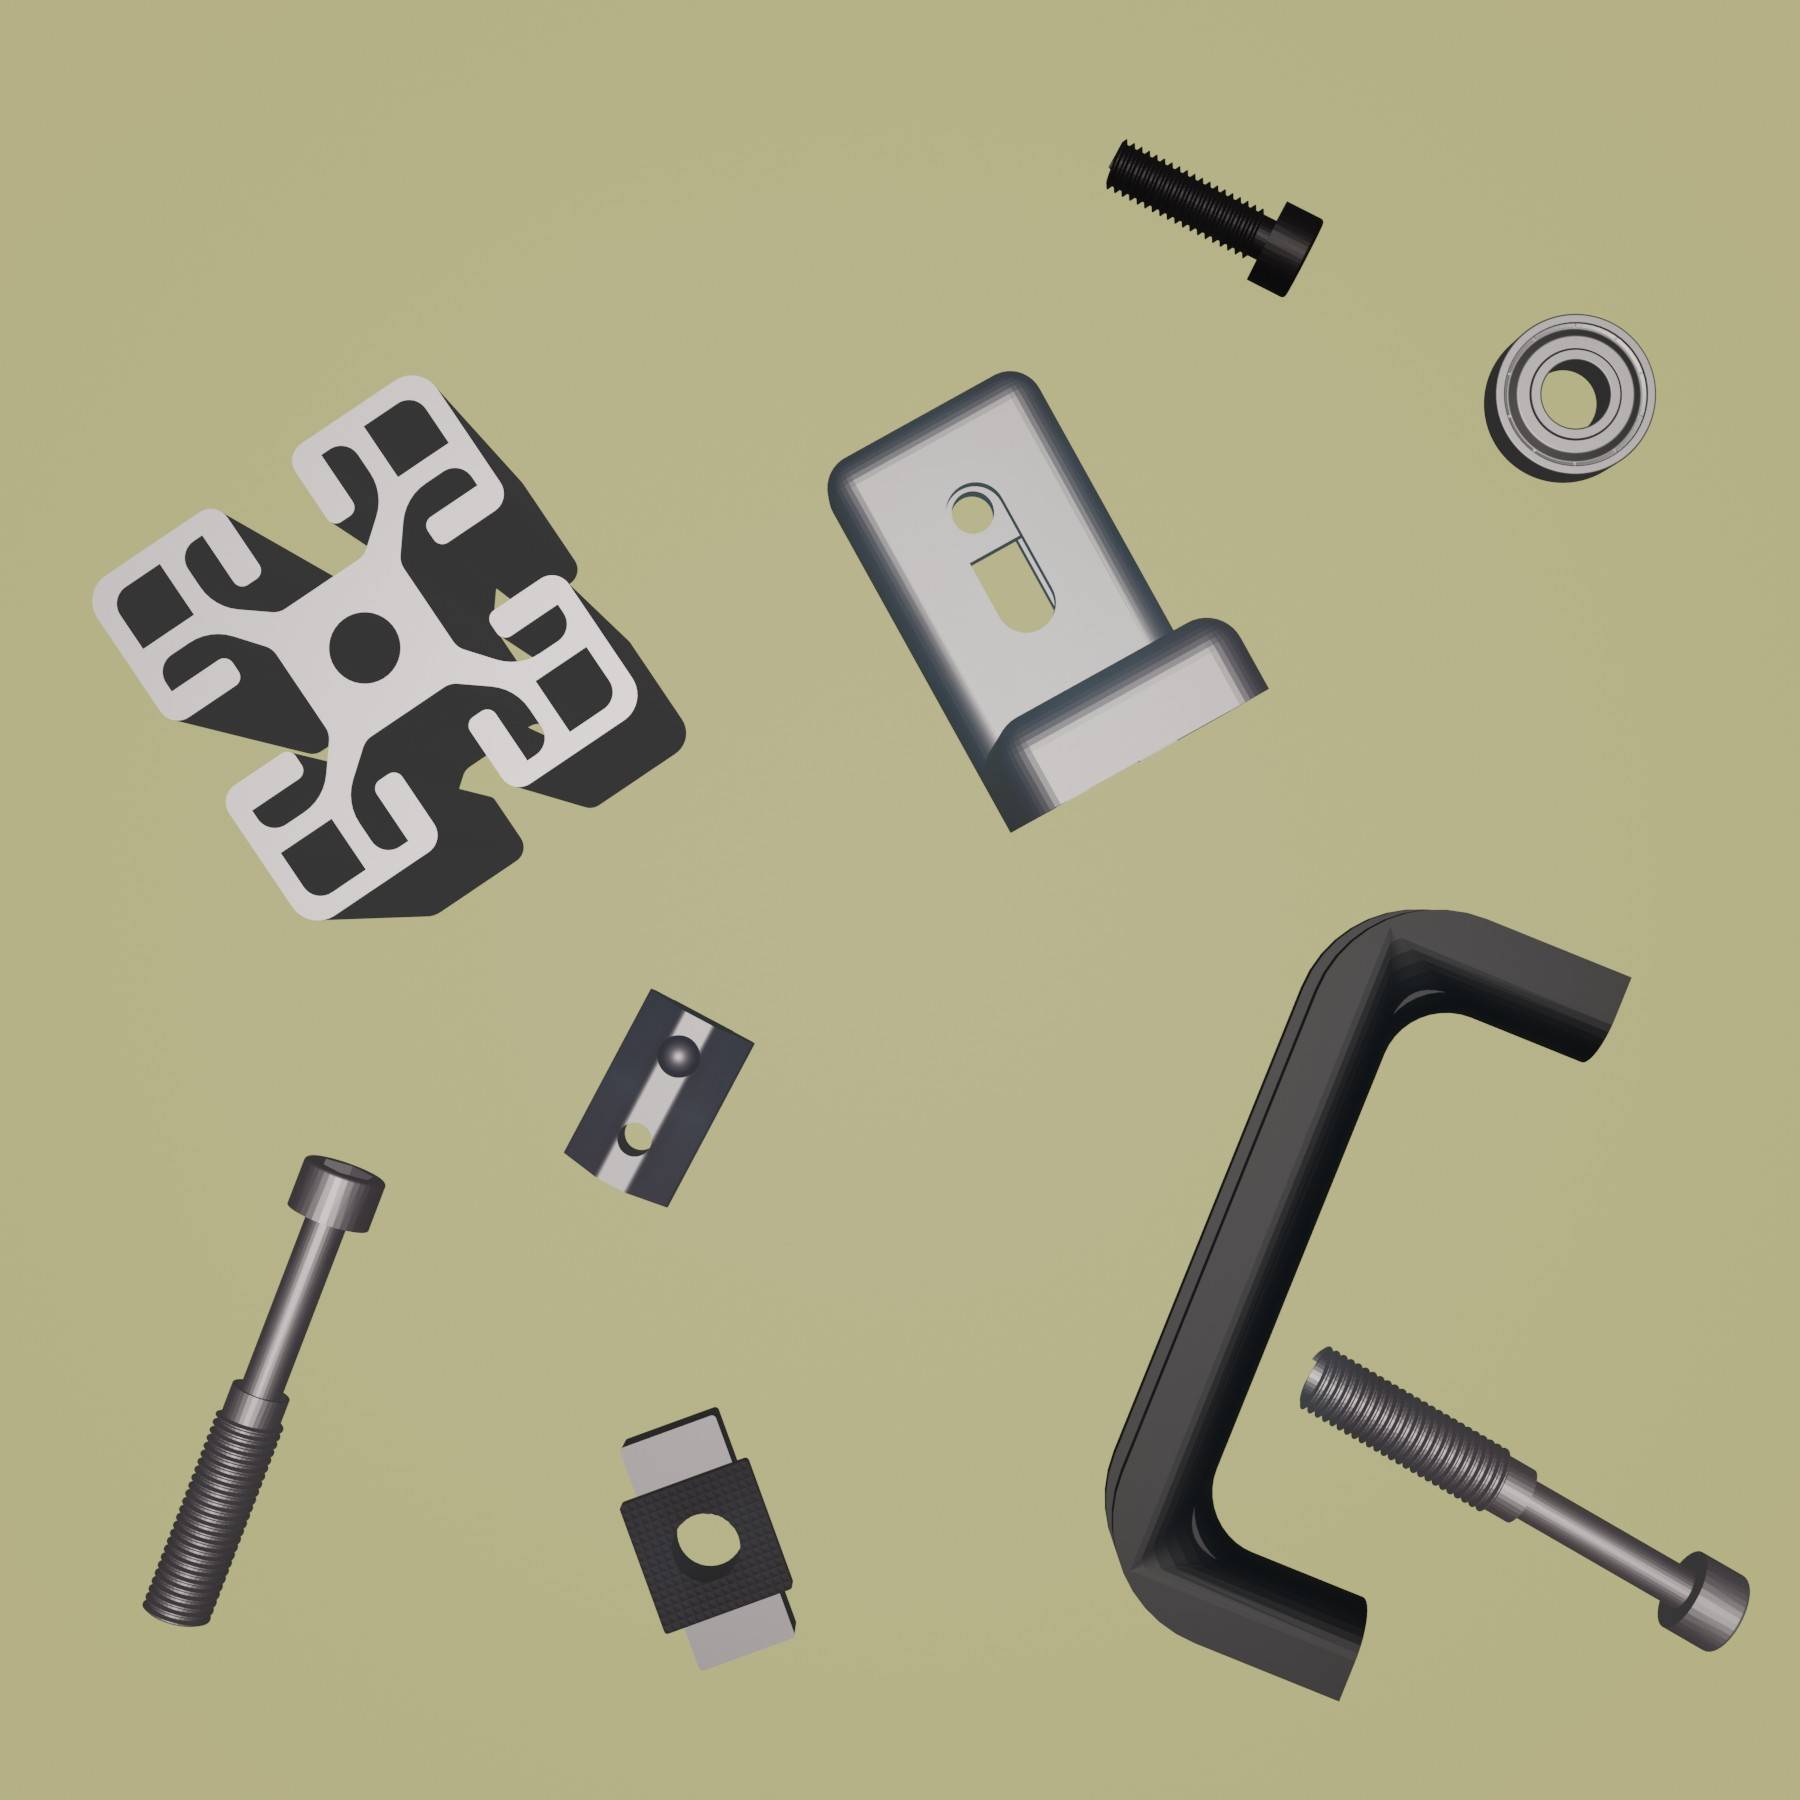Aluminium Extension: (91, 373, 689, 925)
Ball Bearing: (1479, 312, 1658, 485)
Multiwinkel: (824, 368, 1271, 837)
Pull Handle: (1103, 905, 1635, 1709)
Shoulder Socket Head Cap Screw: (1292, 1342, 1751, 1655), (140, 1151, 386, 1630)
Socket Head Cap Screw: (1099, 137, 1324, 298)
T Nut Square: (615, 1399, 801, 1673)
T Spring Nut: (560, 986, 758, 1208)
